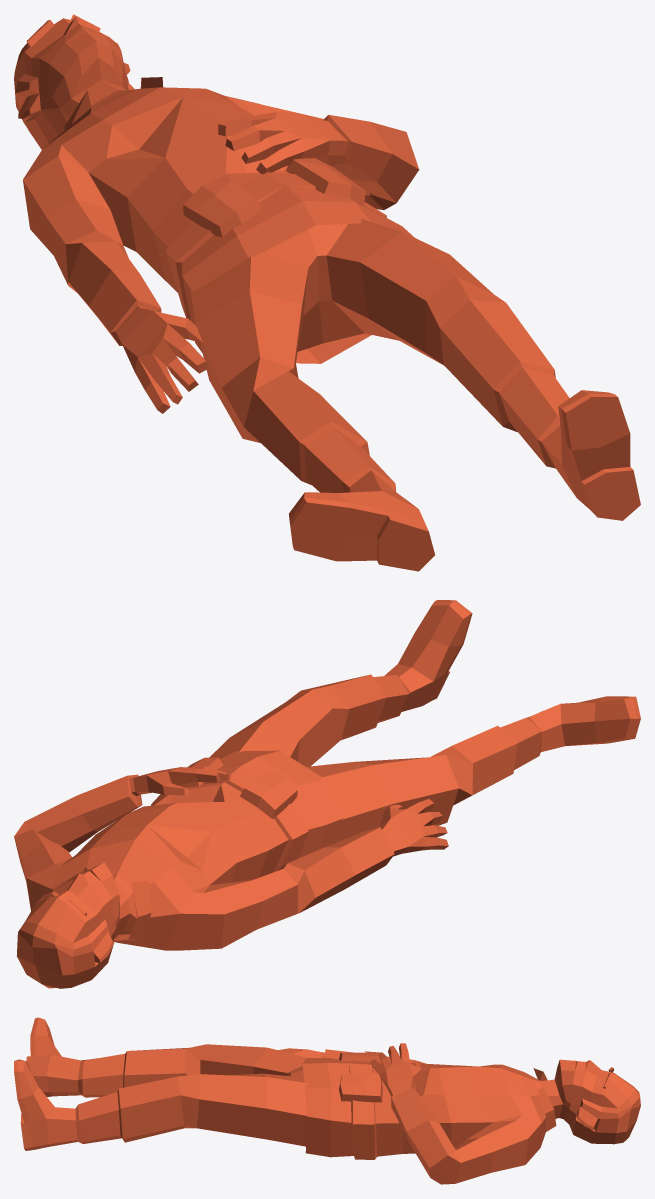
File: man-soldier-dead_US.fbx
3 views of the same model, one above another, from view 1: azimuth 30°, elevation 25°; view 2: azimuth 150°, elevation 25°; view 3: azimuth 270°, elevation 25° (orthographic). The views are drawn at different scales.
Visible parts, largest first — view 1: man-soldier-dead_US; view 2: man-soldier-dead_US; view 3: man-soldier-dead_US.
Boxes of the visible parts, left/top/right/bottom form: man-soldier-dead_US: left=14, top=14, right=640, bottom=571; man-soldier-dead_US: left=14, top=600, right=640, bottom=988; man-soldier-dead_US: left=14, top=1017, right=640, bottom=1184.
Size of the model in its own units: 0.8842 by 0.3183 by 1.78.
